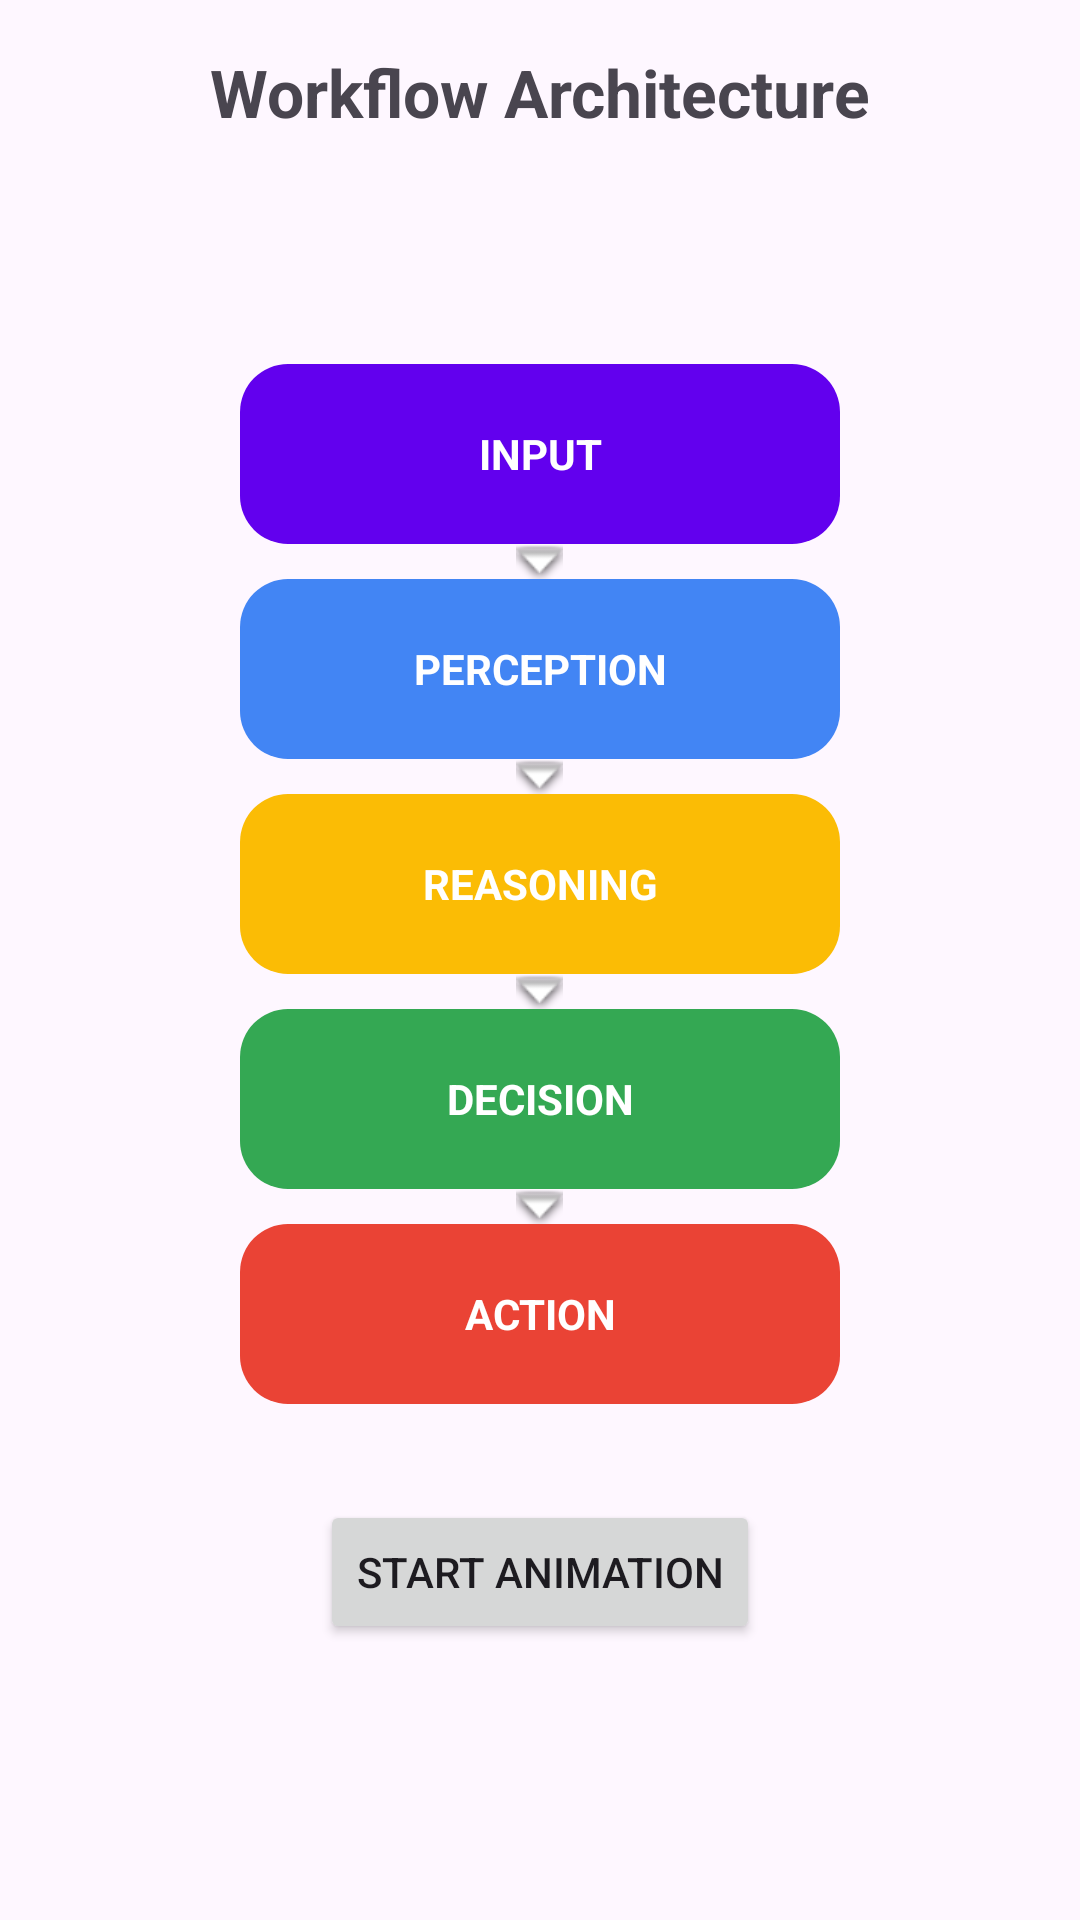

Named icons in this screenshot (1080x1920) and their centers, [x,y]:
arrow down float: [539,561], [539,776], [539,991], [539,1206]
